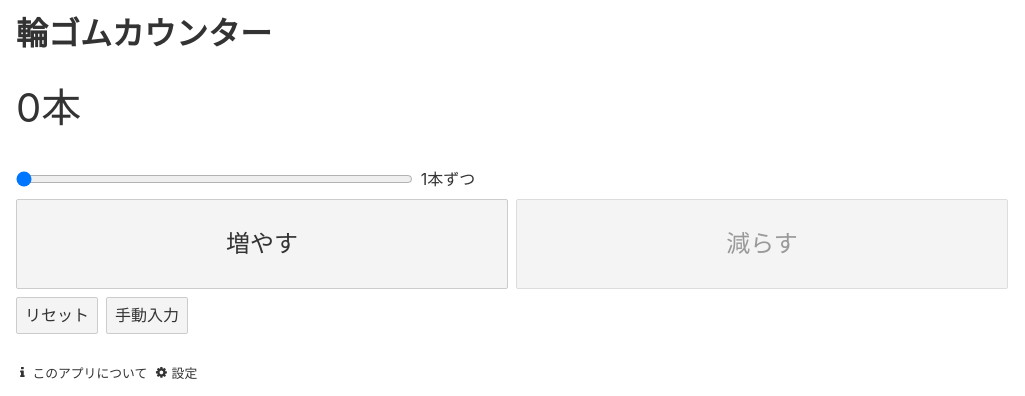
Test: Counter and buttons › Slider can change the counter amount
Set the slider with test id "amount-slider" to "100" at point(214, 179), box [16,163,413,195]
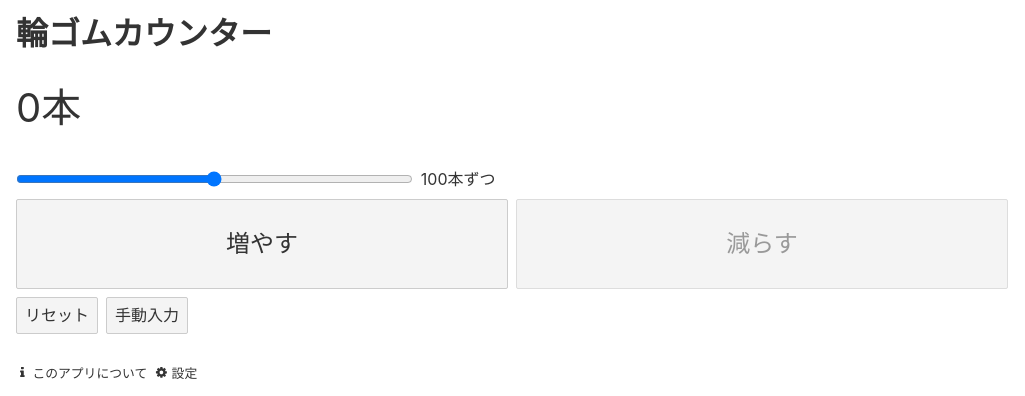
Click the button with test id "increase-btn" at point(262, 244), box [16,199,508,289]
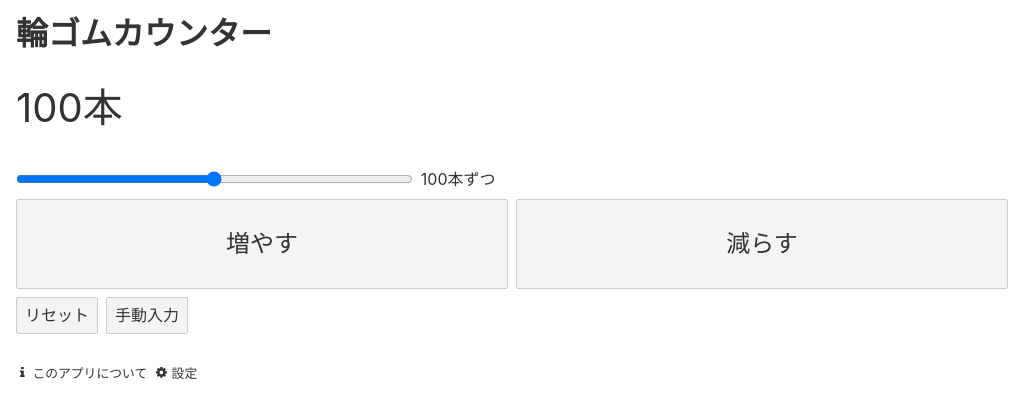
Check: the text with test id "counter-value" reads "100", box [16,83,83,132]
Click the button with test id "decrease-btn" at point(762, 244), box [516,199,1008,289]
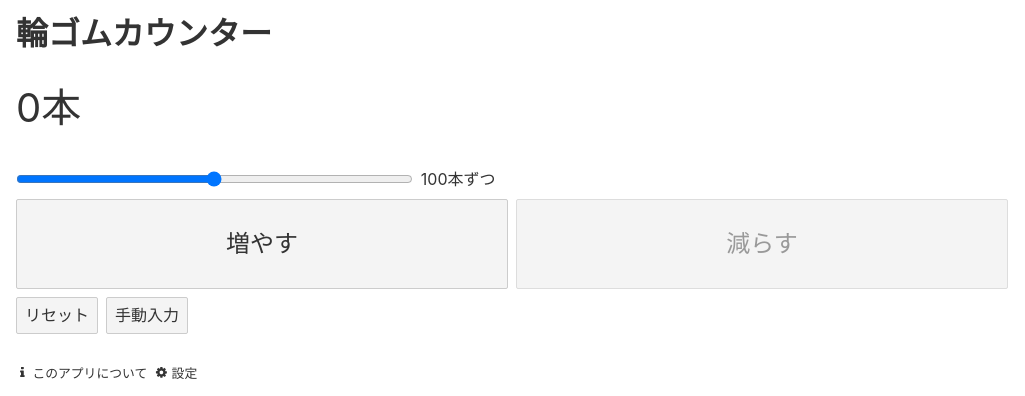
Check: the text with test id "counter-value" reads "0", box [16,83,41,132]
